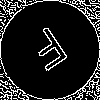F: (25, 25, 76, 80)
